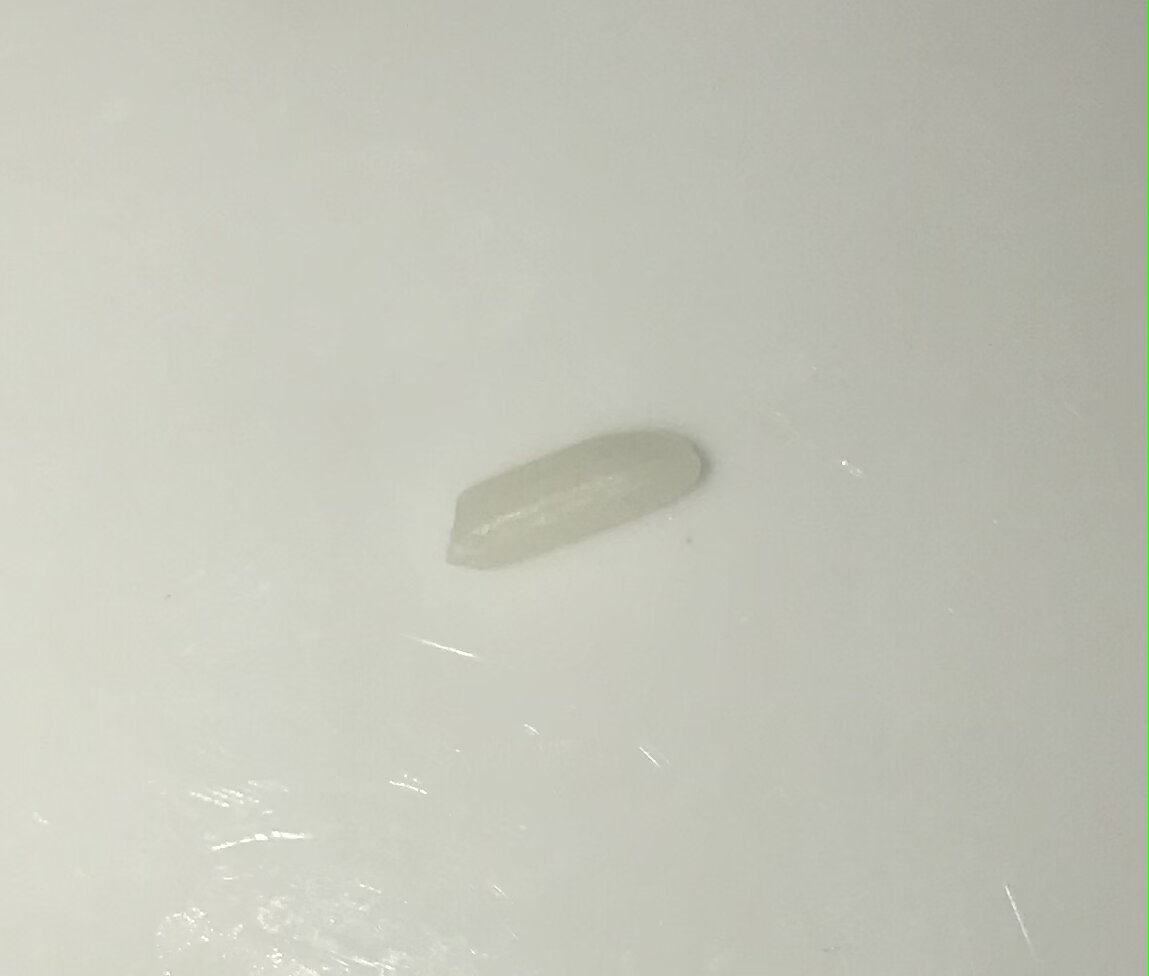Gao Lai Sua: (443, 416, 711, 573)
